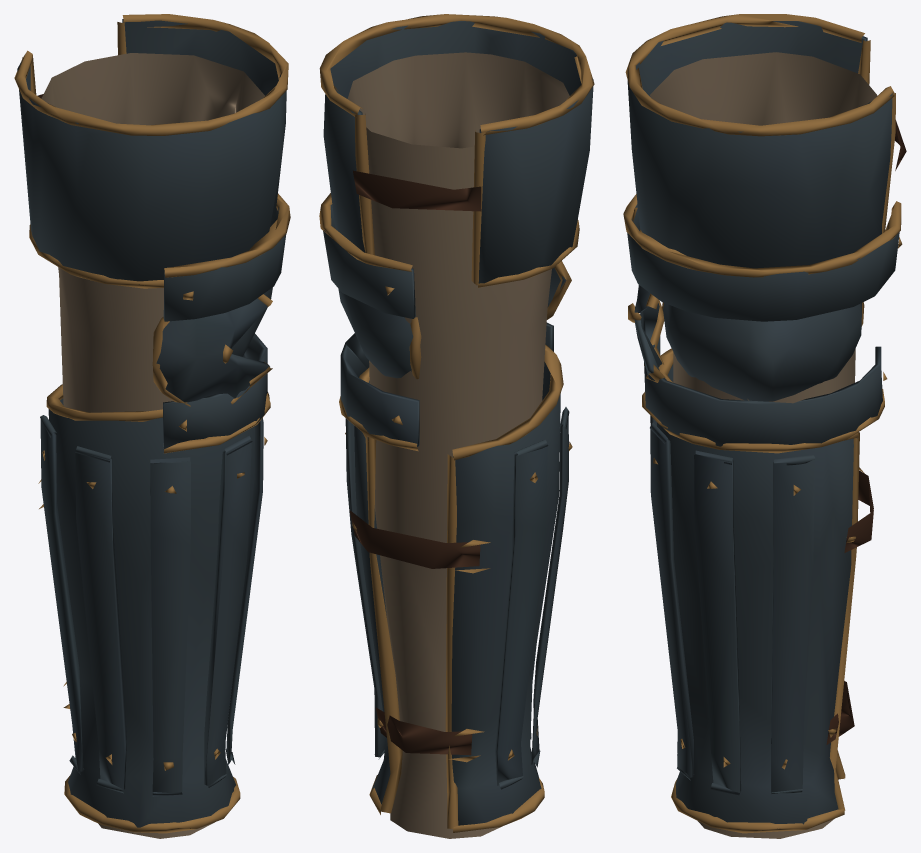
The picture shows the model from 3 angles, left to right: view 1: azimuth 30°, elevation 25°; view 2: azimuth 150°, elevation 25°; view 3: azimuth 270°, elevation 25°; orthographic projection.
Visible parts, largest first — view 1: blackened lamellar plate, quilted linen lining; view 2: blackened lamellar plate, quilted linen lining; view 3: blackened lamellar plate, quilted linen lining.
Boxes of the visible parts, x1=… form: blackened lamellar plate: x1=14, y1=14, x2=290, y2=833; quilted linen lining: x1=37, y1=53, x2=264, y2=838; blackened lamellar plate: x1=319, y1=14, x2=594, y2=832; quilted linen lining: x1=347, y1=52, x2=569, y2=838; blackened lamellar plate: x1=623, y1=14, x2=902, y2=833; quilted linen lining: x1=650, y1=52, x2=906, y2=838.
Size of the model in its own units: 0.1501 by 0.4433 by 0.1537.
